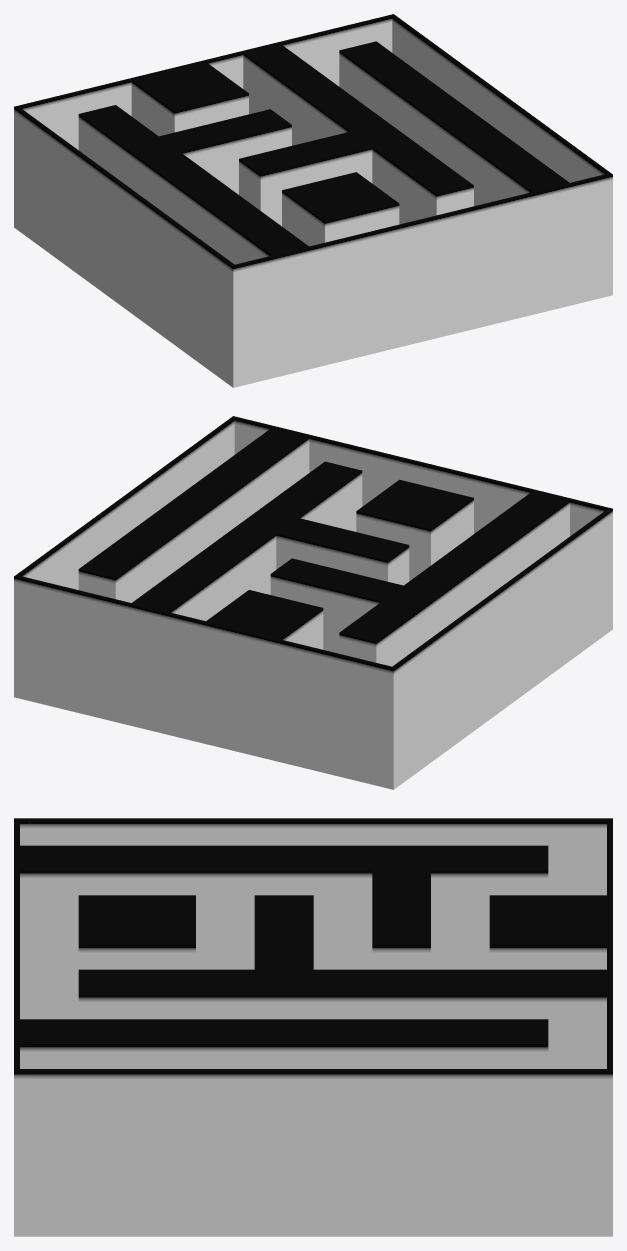
The model's file is Tutorial.fbx.
3 views of the same model, one above another, from view 1: azimuth 30°, elevation 25°; view 2: azimuth 150°, elevation 25°; view 3: azimuth 270°, elevation 25° (orthographic). The views are drawn at different scales.
Parts seen in each view (by area): view 1: Matrix; view 2: Matrix; view 3: Matrix.
Part boxes in pixels (x1,y1,x2,y2): Matrix: (14,14,612,387); Matrix: (14,416,612,789); Matrix: (14,818,612,1236).
Bounding box in the file's own units: 102 × 31 × 102.
